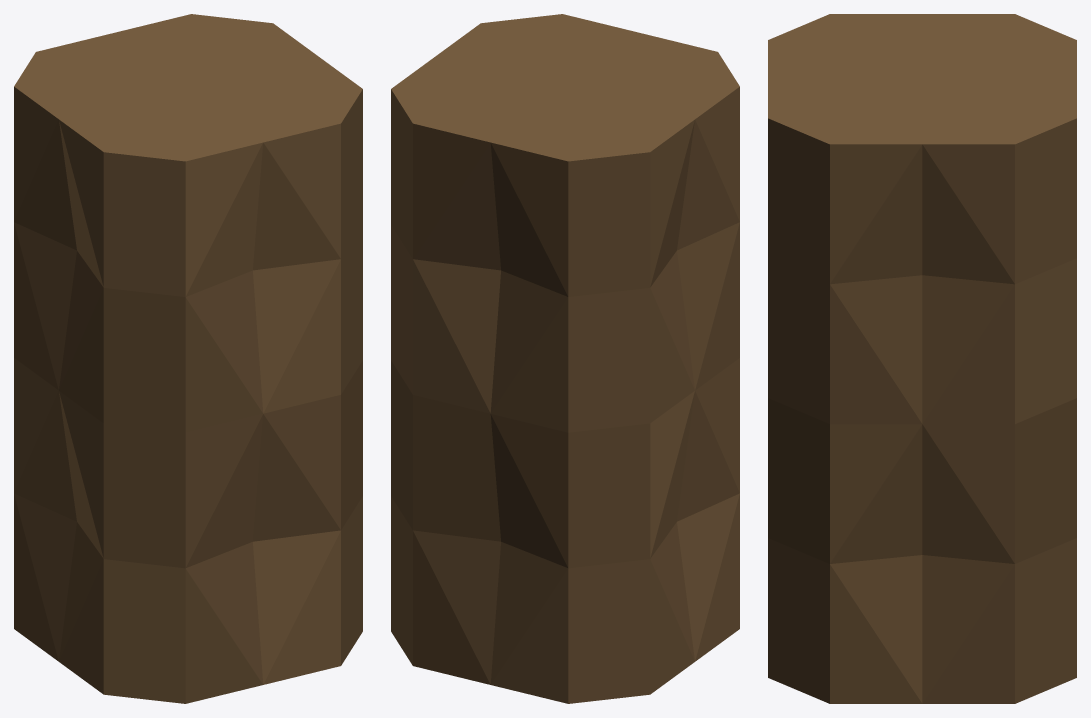
The model's file is Section_1.glb.
3 views of the same model, side by side, from view 1: azimuth 30°, elevation 25°; view 2: azimuth 150°, elevation 25°; view 3: azimuth 270°, elevation 25° (orthographic). The views are drawn at different scales.
Visible parts, largest first — view 1: Section; view 2: Section; view 3: Section.
Boxes of the visible parts, box(x1,y1,x2,y2) form: Section: box(14, 14, 362, 703); Section: box(391, 14, 739, 703); Section: box(768, 14, 1076, 703).
Size of the model in its own units: 1.8 by 3.6 by 1.8.
